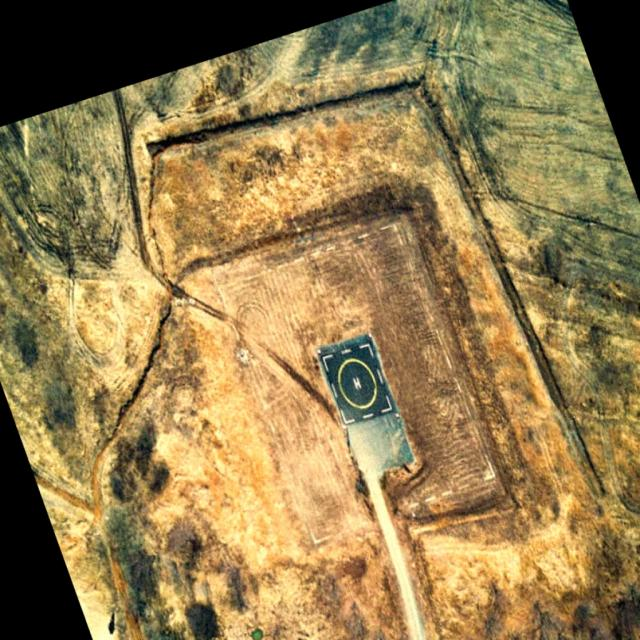helipad: (336, 356, 376, 409)
